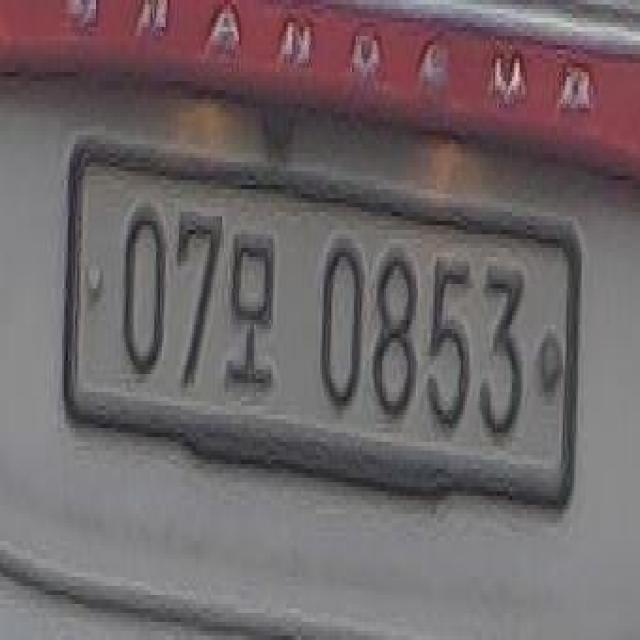illegal_plate: (70, 145, 580, 534)
